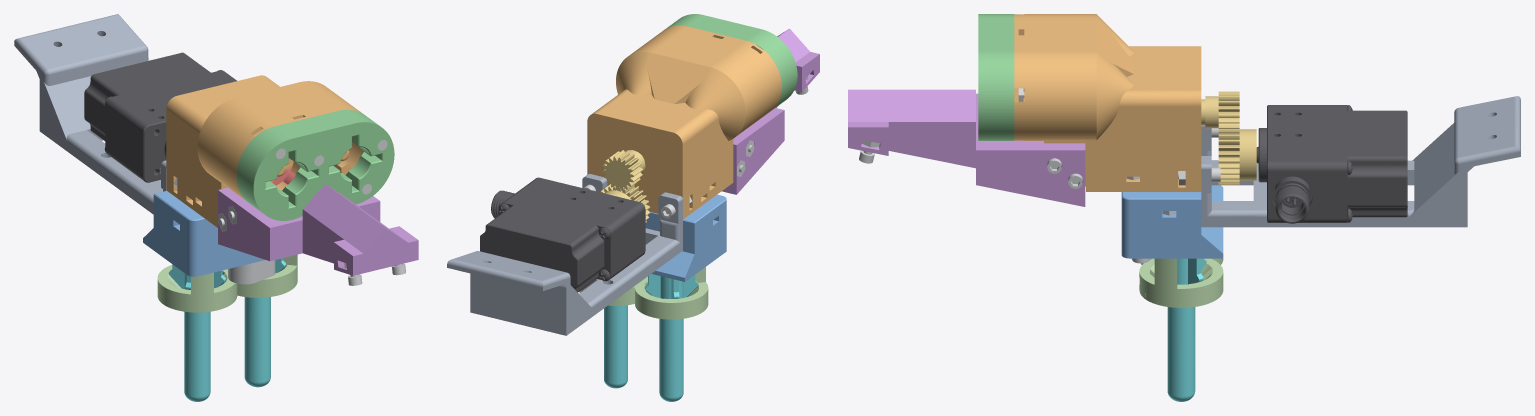
The picture shows the model from 3 angles, left to right: view 1: azimuth 30°, elevation 25°; view 2: azimuth 150°, elevation 25°; view 3: azimuth 270°, elevation 25°; orthographic projection. The views are drawn at different scales.
Visible parts, largest first — view 1: v9__LV10_Torpedo_Body_1, v9__LV10_Servo_Holder_1, v9__LV10_Top_Cover_1, v9__LV10_Crossbar_Arm_1, v9__SER_20XX_Servo_1, v9__LV10_Marker_Base_1, v9__LV10_Bottom_Cover_1, v9__Marker_P83_left, v9__Marker_P83_right, v9__Pushing_Arm_with_Shaft_1; view 2: v9__LV10_Torpedo_Body_1, v9__SER_20XX_Servo_1, v9__LV10_Servo_Holder_1, v9__LV10_Crossbar_Arm_1, v9__LV10_Marker_Base_1, v9__Marker_P83_left, v9__LV10_Top_Cover_1, v9__LV10_Bottom_Cover_1, v9__Marker_P83_right, v9__ShaftandGear_1_Shaftgear2_1, v9__Servogear_1; view 3: v9__LV10_Torpedo_Body_1, v9__SER_20XX_Servo_1, v9__LV10_Crossbar_Arm_1, v9__LV10_Servo_Holder_1, v9__LV10_Marker_Base_1, v9__LV10_Top_Cover_1, v9__Marker_P83_right, v9__LV10_Bottom_Cover_1, v9__Servogear_1, v9__ShaftandGear_1_Shaftgear2_1.
Part boxes in pixels (x1,y1,x2,y2): v9__LV10_Torpedo_Body_1: (166,75,363,227); v9__LV10_Servo_Holder_1: (14,14,166,214); v9__LV10_Top_Cover_1: (236,109,394,220); v9__LV10_Crossbar_Arm_1: (218,184,418,275); v9__SER_20XX_Servo_1: (84,52,236,182); v9__LV10_Marker_Base_1: (143,191,264,276); v9__LV10_Bottom_Cover_1: (157,254,297,312); v9__Marker_P83_left: (168,264,226,401); v9__Marker_P83_right: (244,258,286,387); v9__Pushing_Arm_with_Shaft_1: (228,260,275,284); v9__LV10_Torpedo_Body_1: (587,25,781,219); v9__SER_20XX_Servo_1: (480,177,645,292); v9__LV10_Servo_Holder_1: (447,174,682,335); v9__LV10_Crossbar_Arm_1: (722,28,819,194); v9__LV10_Marker_Base_1: (645,194,726,281); v9__Marker_P83_left: (644,274,698,401); v9__LV10_Top_Cover_1: (666,14,797,109); v9__LV10_Bottom_Cover_1: (579,267,708,319); v9__Marker_P83_right: (604,305,627,388); v9__ShaftandGear_1_Shaftgear2_1: (602,150,643,190); v9__Servogear_1: (600,184,650,222); v9__LV10_Torpedo_Body_1: (1014,14,1201,191); v9__SER_20XX_Servo_1: (1256,105,1407,223); v9__LV10_Crossbar_Arm_1: (848,89,1085,206); v9__LV10_Servo_Holder_1: (1201,96,1520,227); v9__LV10_Marker_Base_1: (1121,185,1223,258); v9__LV10_Top_Cover_1: (978,14,1014,140); v9__Marker_P83_right: (1167,258,1206,401); v9__LV10_Bottom_Cover_1: (1139,258,1223,307); v9__Servogear_1: (1218,129,1256,185); v9__ShaftandGear_1_Shaftgear2_1: (1218,91,1239,133).
Size of the model in its own units: 102 by 184 by 321.
